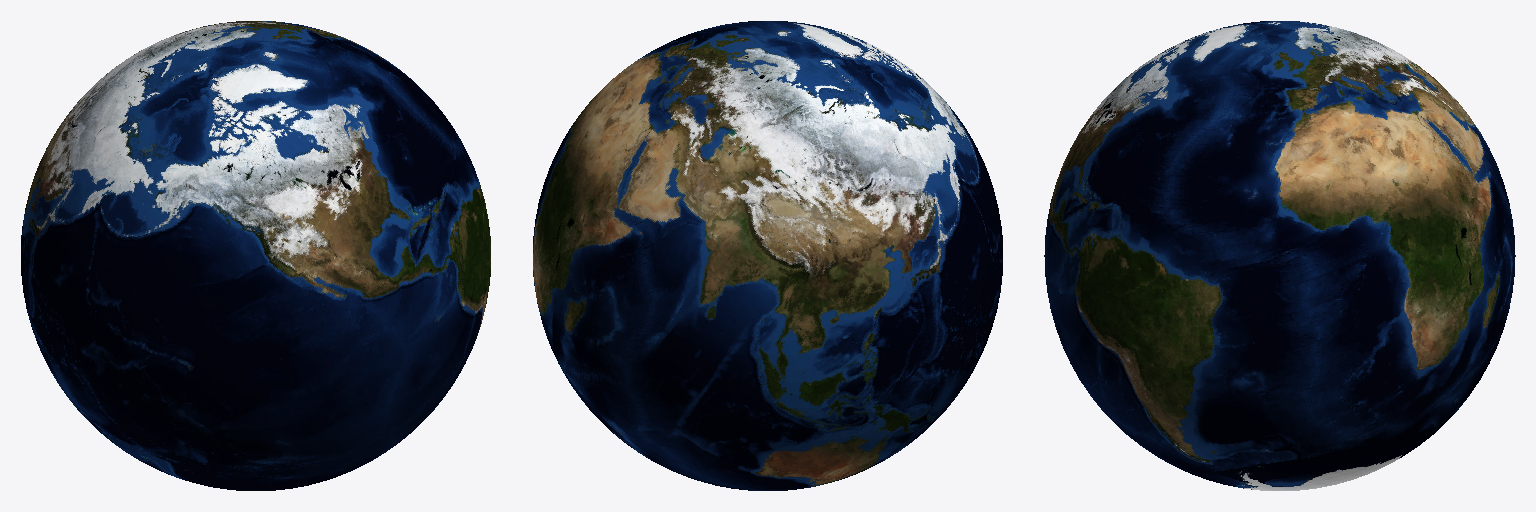
The picture shows the model from 3 angles: view 1: azimuth 30°, elevation 25°; view 2: azimuth 150°, elevation 25°; view 3: azimuth 270°, elevation 25°; orthographic projection.
Parts seen in each view (by area): view 1: Icosphere_Icosphere.001; view 2: Icosphere_Icosphere.001; view 3: Icosphere_Icosphere.001.
Boxes of the visible parts, x1=… form: Icosphere_Icosphere.001: x1=21, y1=21, x2=490, y2=490; Icosphere_Icosphere.001: x1=533, y1=21, x2=1002, y2=490; Icosphere_Icosphere.001: x1=1044, y1=21, x2=1515, y2=490.
Bounding box in the file's own units: 2 × 2 × 2.
Materials: 1 (1 with a texture image).